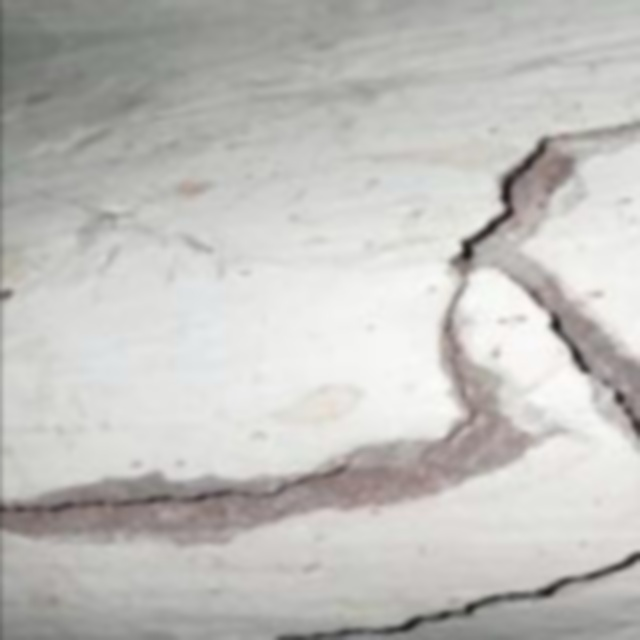SurfaceCrack: (424, 90, 640, 468), (0, 430, 378, 560), (226, 542, 640, 640)
